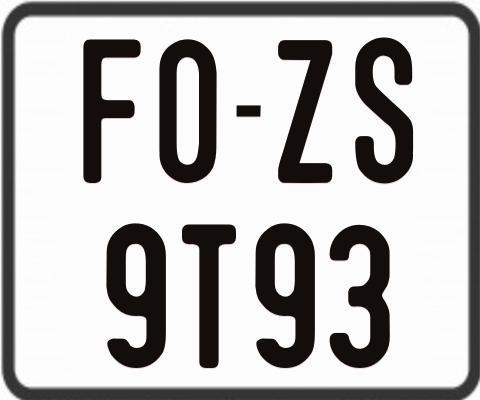0: (157, 39, 216, 185)
3: (327, 223, 390, 370)
9: (104, 220, 169, 368), (254, 223, 320, 368)
F: (80, 40, 140, 186)
S: (353, 35, 413, 181)
T: (179, 225, 236, 371)
Z: (278, 38, 335, 185)
